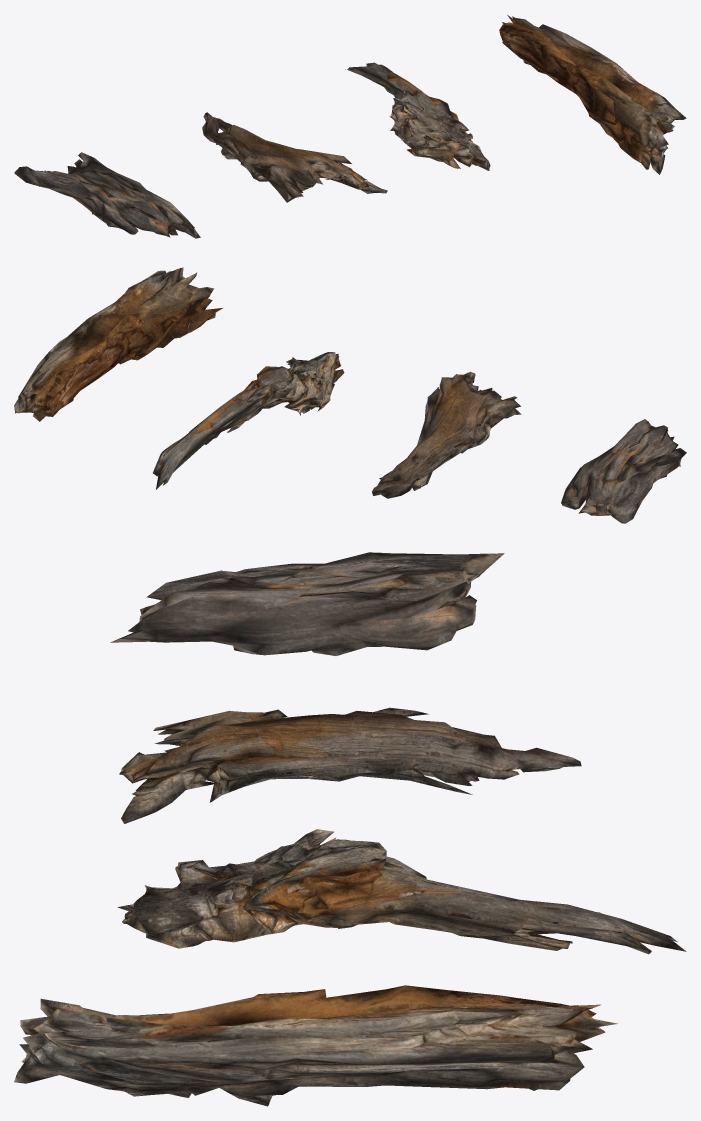
The model's file is bark_debris_01_lod.glb.
The picture shows the model from 3 angles, top to bottom: view 1: azimuth 30°, elevation 25°; view 2: azimuth 150°, elevation 25°; view 3: azimuth 270°, elevation 25°; orthographic projection. The views are drawn at different scales.
Parts seen in each view (by area): view 1: bark_debris_01_d, bark_debris_01_a, bark_debris_01_b, bark_debris_01_c; view 2: bark_debris_01_d, bark_debris_01_b, bark_debris_01_a, bark_debris_01_c; view 3: bark_debris_01_d, bark_debris_01_c, bark_debris_01_a, bark_debris_01_b.
Boxes of the visible parts, x1=… form: bark_debris_01_d: x1=499, y1=15, x2=686, y2=174; bark_debris_01_a: x1=14, y1=152, x2=200, y2=238; bark_debris_01_b: x1=202, y1=112, x2=387, y2=202; bark_debris_01_c: x1=345, y1=62, x2=490, y2=170; bark_debris_01_d: x1=14, y1=267, x2=222, y2=421; bark_debris_01_b: x1=372, y1=371, x2=521, y2=498; bark_debris_01_a: x1=561, y1=419, x2=686, y2=523; bark_debris_01_c: x1=153, y1=352, x2=344, y2=489; bark_debris_01_d: x1=14, y1=985, x2=618, y2=1106; bark_debris_01_c: x1=117, y1=829, x2=686, y2=954; bark_debris_01_a: x1=110, y1=552, x2=504, y2=655; bark_debris_01_b: x1=119, y1=707, x2=581, y2=823.
Bounding box in the file's own units: 1.21 × 0.1103 × 0.6743.
1 material, 1 textured.
